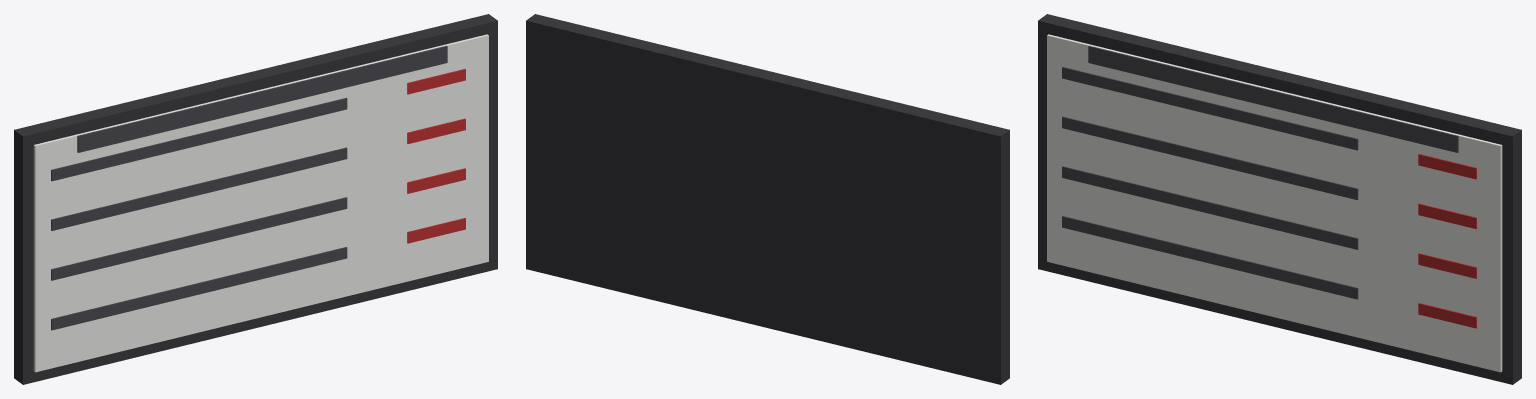
The model's file is menu_board_wall.glb.
The picture shows the model from 3 angles, left to right: view 1: azimuth 30°, elevation 25°; view 2: azimuth 150°, elevation 25°; view 3: azimuth 330°, elevation 25°; orthographic projection.
Visible parts, largest first — view 1: Menu Board Wall; view 2: Menu Board Wall; view 3: Menu Board Wall.
Part boxes in pixels (x1,y1,x2,y2): Menu Board Wall: [14, 14, 497, 384]; Menu Board Wall: [526, 14, 1009, 384]; Menu Board Wall: [1038, 14, 1521, 384].
Bounding box in the file's own units: 0.9 × 0.45 × 0.038.
